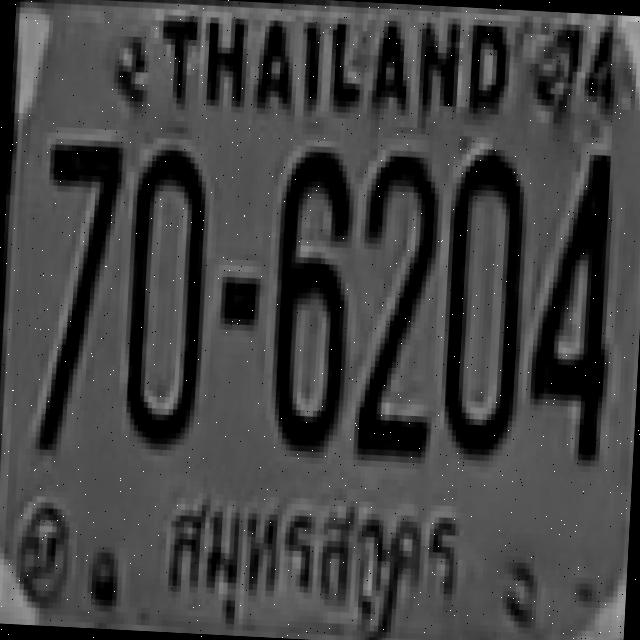0: (436, 144, 528, 453), (120, 143, 208, 446)
2: (352, 152, 438, 426), (352, 216, 436, 454)
4: (524, 146, 616, 455)
6: (264, 147, 352, 450)
7: (38, 138, 122, 370), (40, 138, 122, 336), (40, 138, 121, 312)
SamutSakhon: (150, 478, 477, 612)
